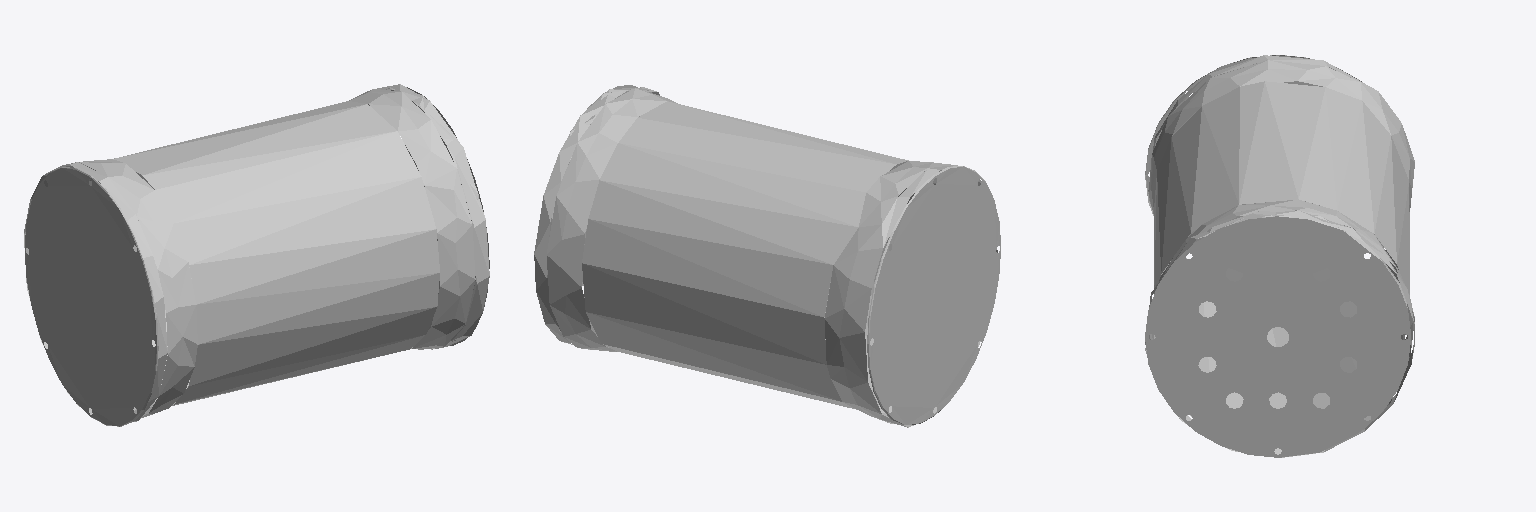
Rendered from main_cylinder.obj.
The picture shows the model from 3 angles: view 1: azimuth 30°, elevation 25°; view 2: azimuth 150°, elevation 25°; view 3: azimuth 270°, elevation 25°; orthographic projection.
Size of the model in its own units: 0.216 by 0.1501 by 0.1522.